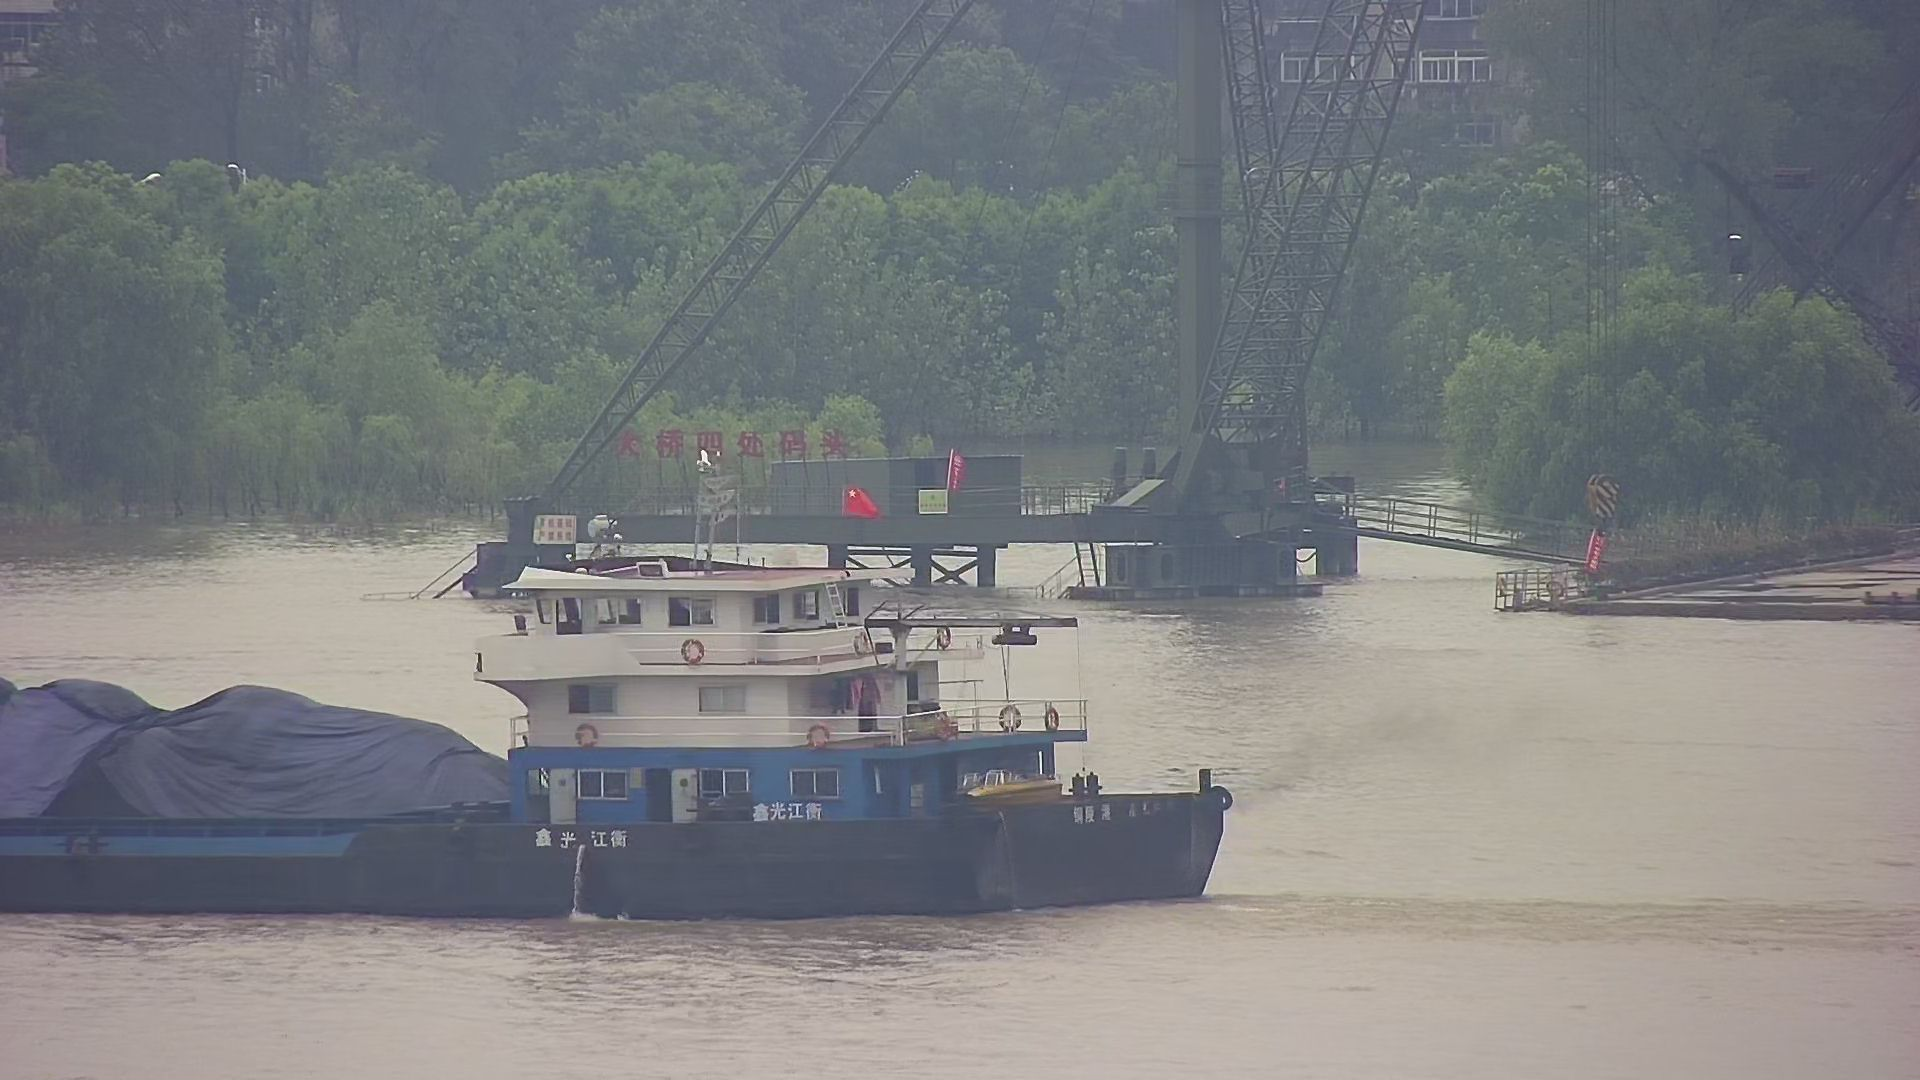platform: (401, 1, 1399, 615)
ship: (1, 439, 1247, 928)
